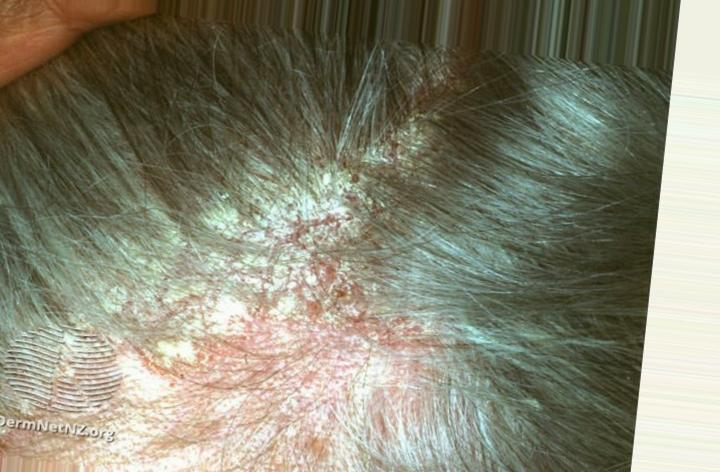Contact Dermatitis: (124, 174, 438, 434)
